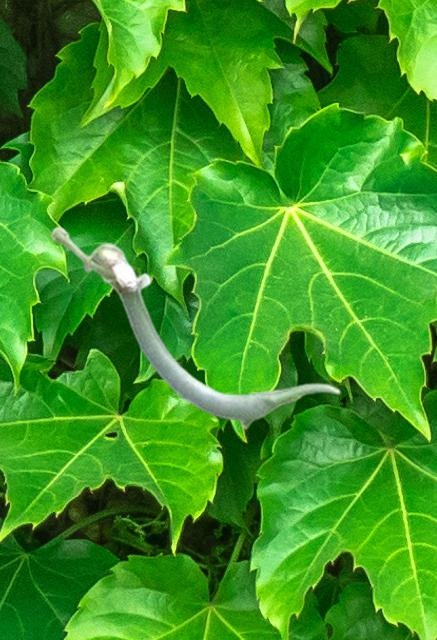french_bean: (50, 225, 340, 429)
